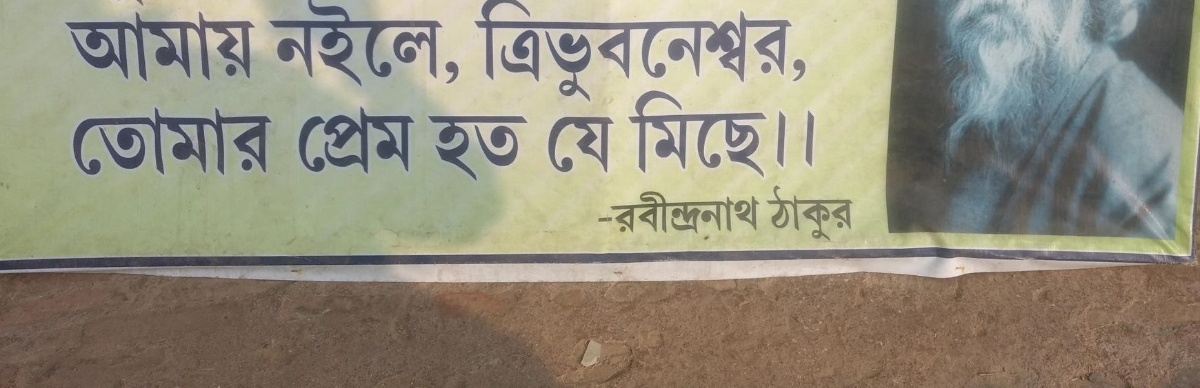text: (481, 1, 496, 111), (497, 1, 512, 111), (513, 1, 528, 111), (529, 1, 544, 111), (545, 1, 560, 111), (561, 1, 576, 111), (577, 1, 592, 111), (593, 1, 608, 111), (609, 1, 624, 111), (625, 1, 640, 111), (641, 1, 656, 111), (657, 1, 672, 111), (673, 1, 688, 111), (689, 1, 704, 111), (705, 1, 720, 111), (721, 1, 736, 111), (737, 1, 752, 111), (753, 1, 768, 111), (769, 1, 784, 111), (785, 1, 800, 111), (801, 1, 816, 111), (817, 87, 833, 183), (641, 87, 656, 183), (657, 87, 672, 183), (673, 87, 688, 183), (689, 87, 704, 183), (705, 87, 720, 183), (721, 87, 736, 183), (737, 87, 752, 183), (753, 87, 768, 183), (769, 87, 784, 183), (785, 87, 800, 183), (801, 87, 816, 183), (273, 1, 288, 93), (289, 1, 304, 93), (305, 1, 320, 93), (321, 1, 336, 93), (337, 1, 352, 93), (353, 1, 368, 93), (369, 1, 384, 93), (385, 1, 400, 93), (401, 1, 416, 93), (417, 1, 432, 93), (433, 1, 448, 93), (627, 87, 640, 183), (65, 9, 80, 87), (81, 9, 96, 87), (97, 9, 112, 87), (113, 9, 128, 87), (129, 9, 144, 87), (145, 9, 160, 87), (161, 9, 176, 87), (177, 9, 192, 87), (193, 9, 208, 87), (209, 9, 224, 87), (225, 9, 240, 87), (241, 9, 256, 87), (81, 105, 96, 181), (97, 105, 112, 181), (113, 105, 128, 181), (129, 105, 144, 181), (145, 105, 160, 181), (161, 105, 176, 181), (177, 105, 192, 181), (193, 105, 208, 181), (209, 105, 224, 181), (225, 105, 240, 181), (241, 105, 256, 181), (257, 105, 272, 181), (305, 103, 320, 179), (321, 103, 336, 179), (337, 103, 352, 179), (353, 103, 368, 179), (369, 103, 384, 179), (385, 103, 400, 179), (401, 103, 416, 179), (449, 1, 461, 93), (817, 1, 827, 111), (433, 111, 448, 183), (449, 111, 464, 183), (465, 111, 480, 183), (481, 111, 496, 183), (497, 111, 512, 183), (513, 111, 528, 183), (561, 112, 576, 182), (577, 112, 592, 182), (593, 112, 608, 182), (769, 183, 784, 246), (785, 183, 800, 246), (801, 183, 816, 246), (817, 183, 832, 246), (833, 183, 848, 246), (547, 112, 560, 182), (293, 103, 304, 179), (593, 189, 608, 236), (609, 189, 624, 236), (625, 189, 640, 236), (641, 189, 656, 236), (657, 189, 672, 236), (673, 189, 688, 236), (689, 189, 704, 236), (705, 189, 720, 236), (721, 189, 736, 236), (737, 189, 752, 236), (474, 1, 480, 111), (72, 105, 80, 181), (425, 111, 432, 183), (609, 112, 616, 182), (849, 183, 856, 246), (753, 189, 761, 236), (268, 1, 272, 93), (765, 183, 768, 246), (273, 105, 275, 181), (63, 9, 64, 87), (257, 9, 258, 87), (417, 103, 418, 179), (529, 111, 530, 183), (591, 189, 592, 236)
